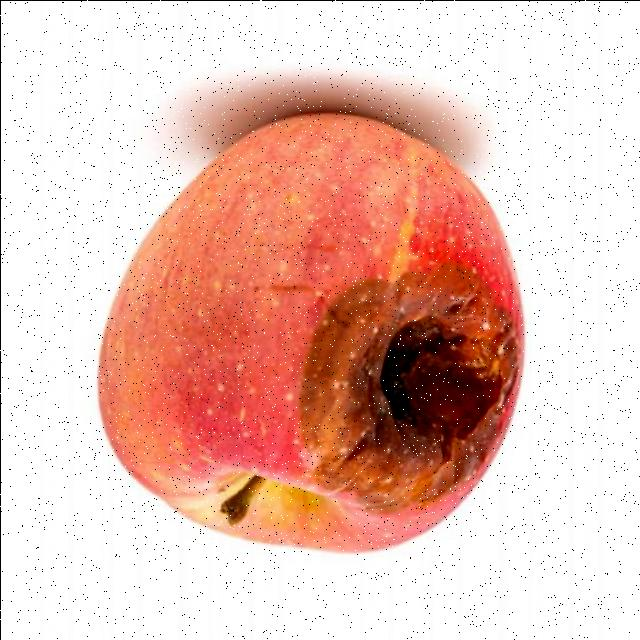ROT: (105, 92, 542, 564)
